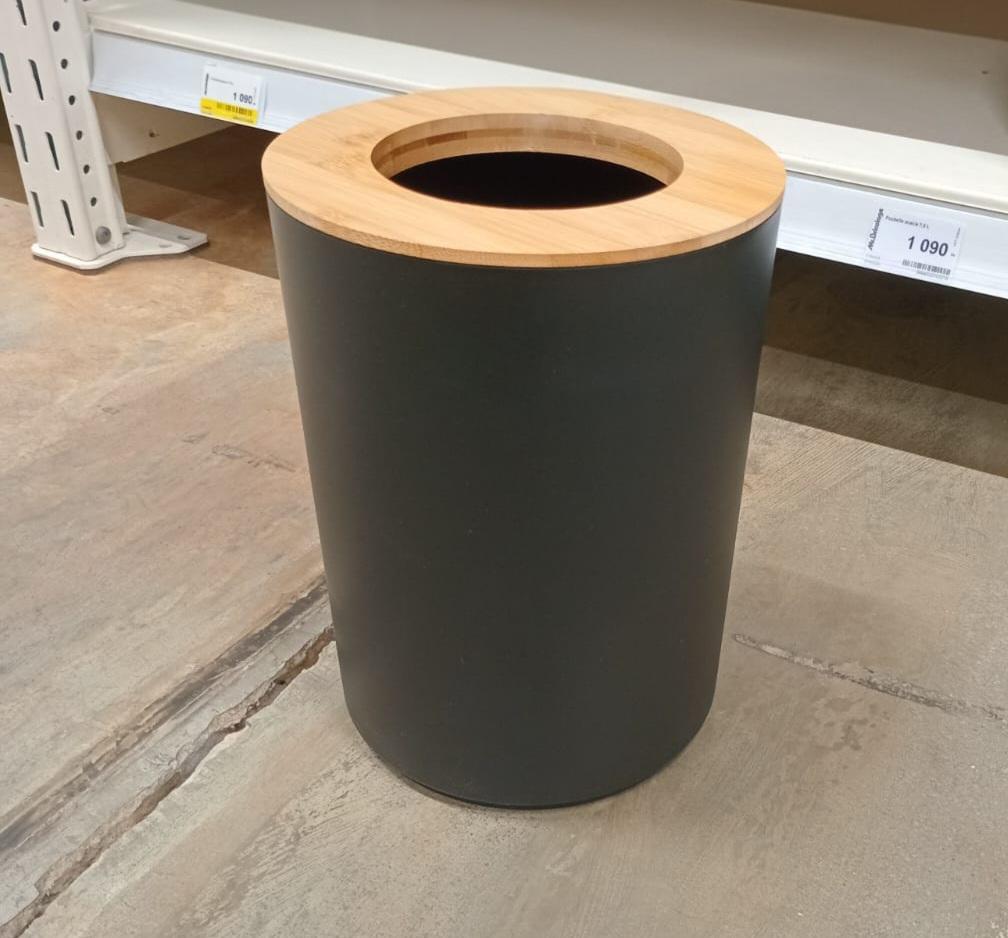bin: (261, 86, 786, 810)
